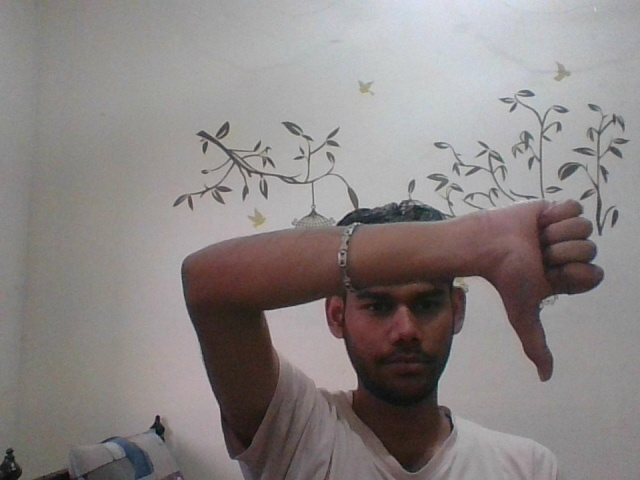No: (472, 189, 624, 384)
